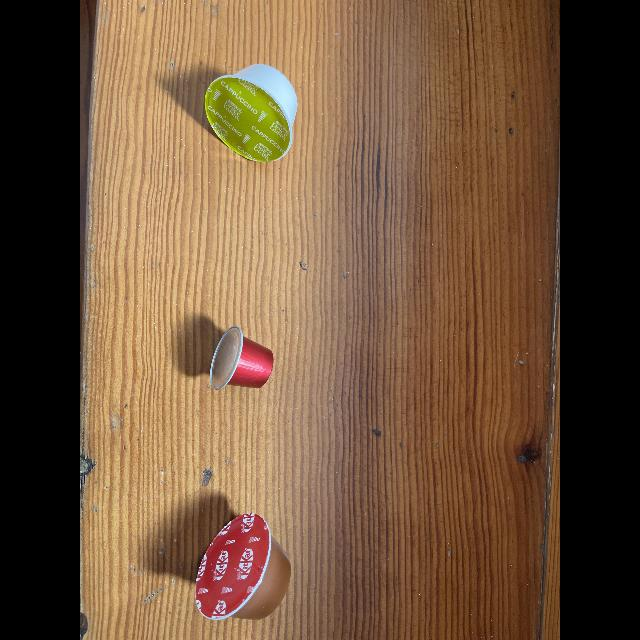intact_capsule: (189, 500, 307, 640), (198, 58, 310, 172), (202, 316, 284, 400)
